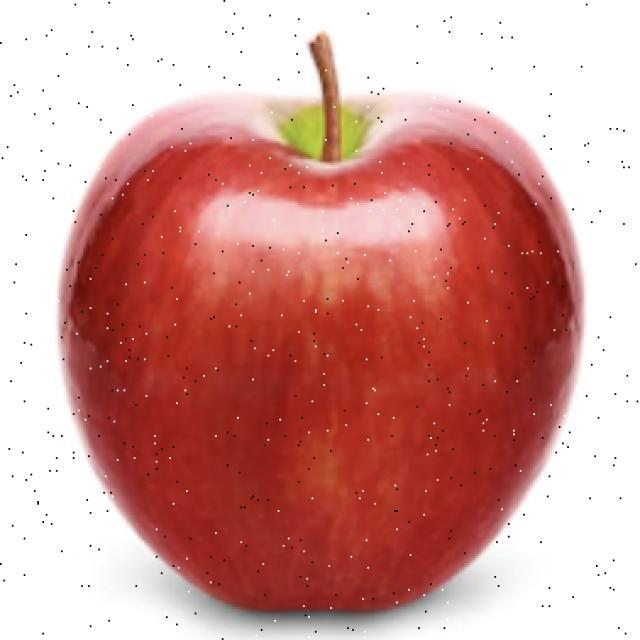Apple: (56, 30, 585, 614)
